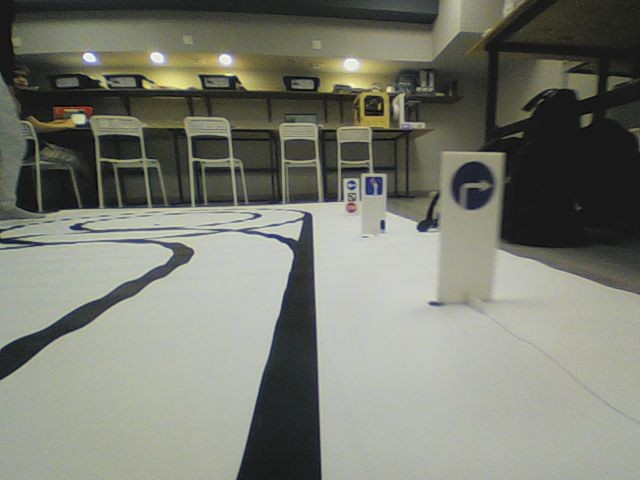Right: (449, 159, 496, 212)
priority_movement: (364, 175, 384, 197)
